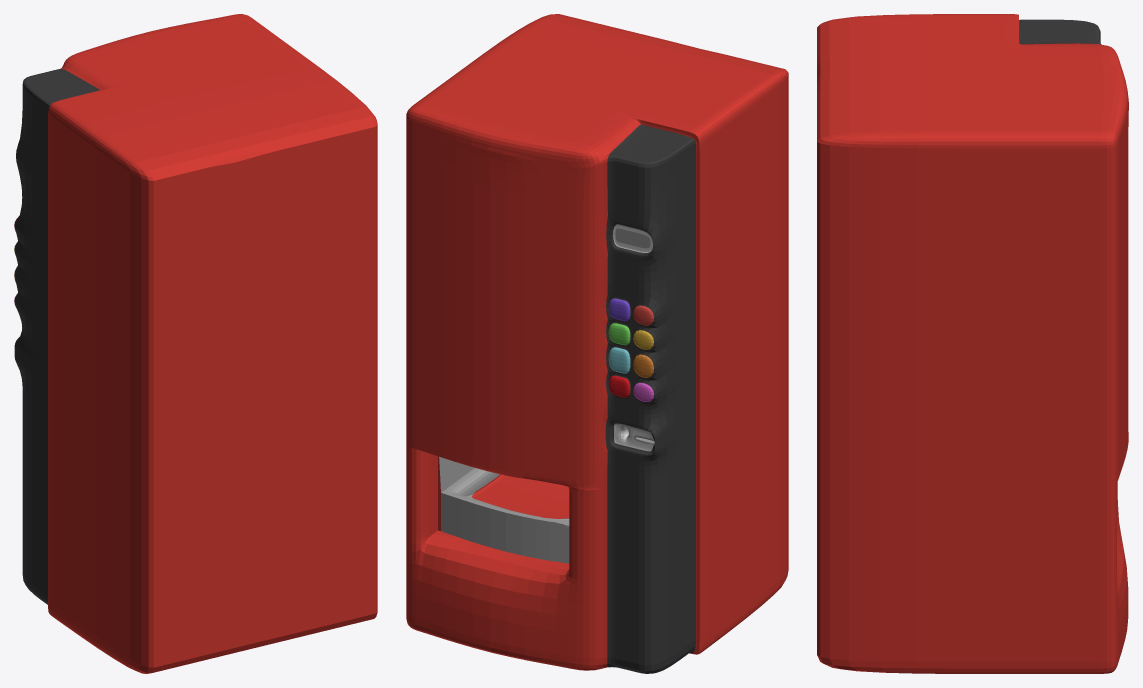
The model's file is vendingmachine.fbx.
3 views of the same model, side by side, from view 1: azimuth 30°, elevation 25°; view 2: azimuth 150°, elevation 25°; view 3: azimuth 270°, elevation 25° (orthographic). The views are drawn at different scales.
Parts seen in each view (by area): view 1: Cube; view 2: Cube; view 3: Cube.
Boxes of the visible parts, box(x1,y1,x2,y2) form: Cube: box(14, 14, 377, 673); Cube: box(406, 14, 788, 673); Cube: box(817, 14, 1128, 673).
Size of the model in its own units: 575 by 1148 by 600.
